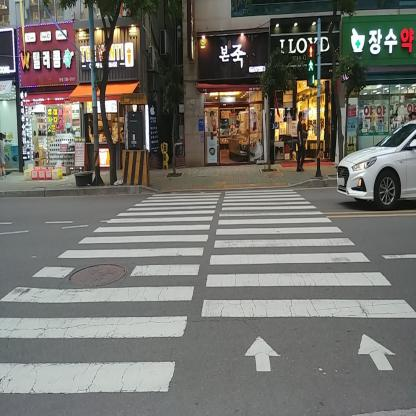Green: (307, 58, 315, 86)
